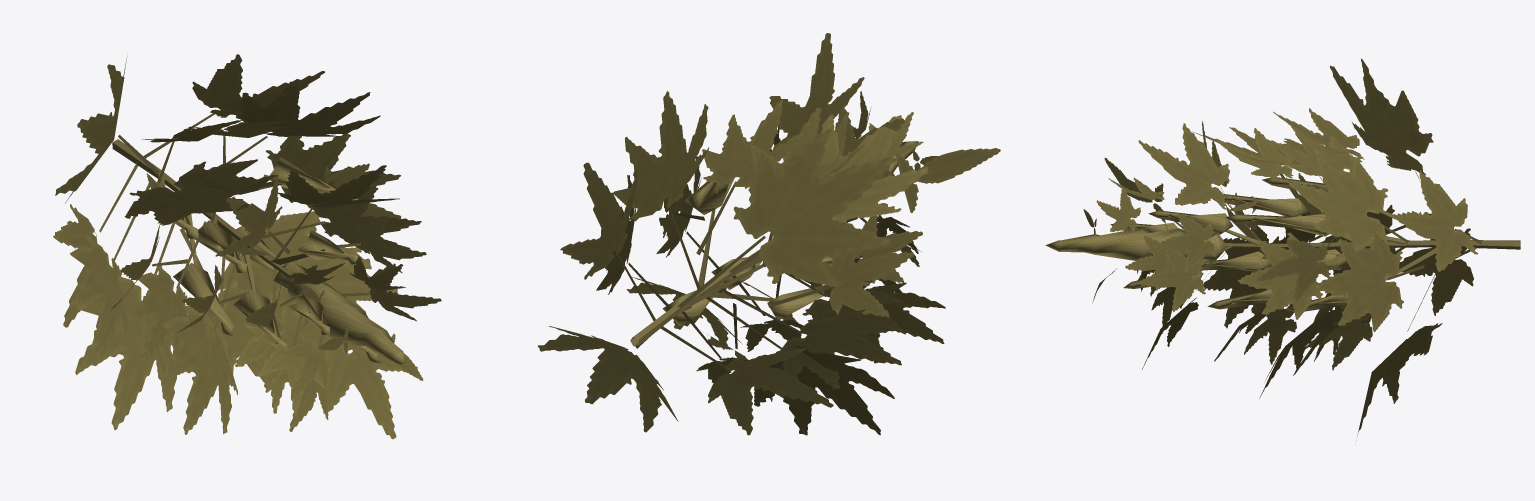
The model's file is p_hybrid_flowering_c2_cards.obj.
3 views of the same model, side by side, from view 1: azimuth 30°, elevation 25°; view 2: azimuth 150°, elevation 25°; view 3: azimuth 270°, elevation 25° (orthographic). The views are drawn at different scales.
Size of the model in its own units: 1.33 by 1.3 by 1.5.
Materials: 1 (1 with a texture image).
